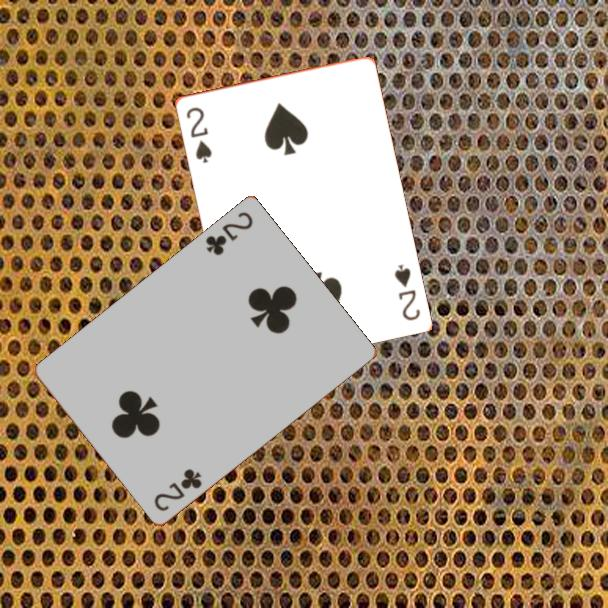c02: (150, 465, 205, 515), (202, 209, 256, 259)
s02: (390, 261, 423, 323), (182, 103, 214, 166)
